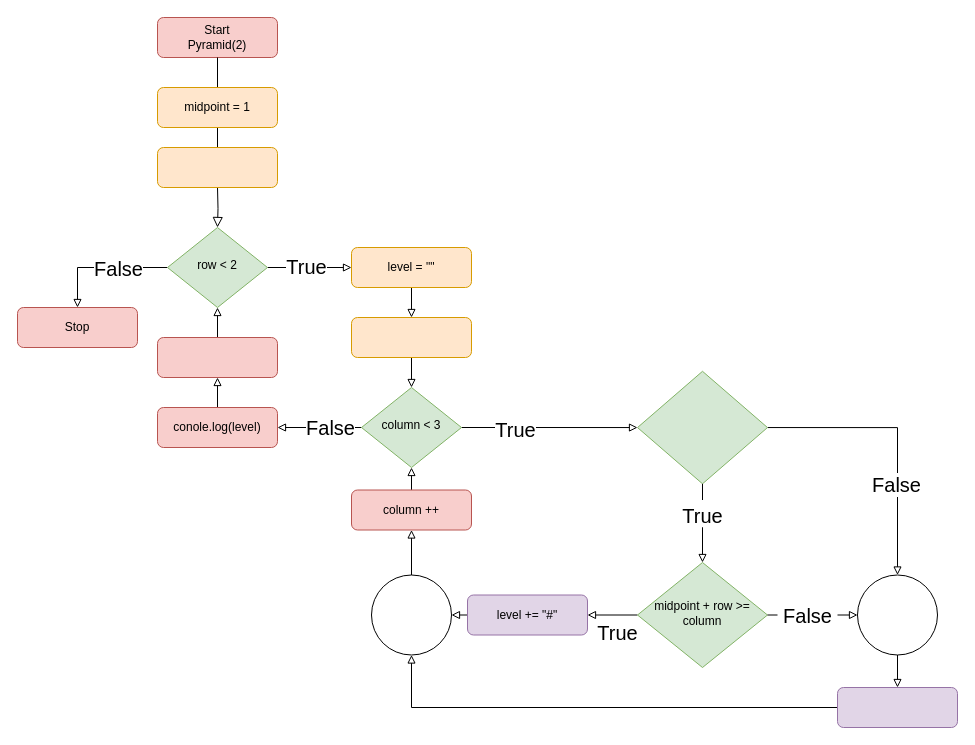
Image size: 975x745. Some labels were removed from this diagram. Each missing label, with the centre of its shape:
column = 0: (411,337)
level += " ": (897,707)
midpoint - row <= column: (702,427)
row ++: (217,357)
row = 0: (217,167)
